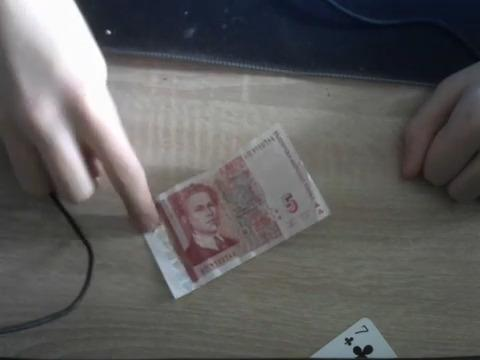5leva: (144, 127, 331, 300)
